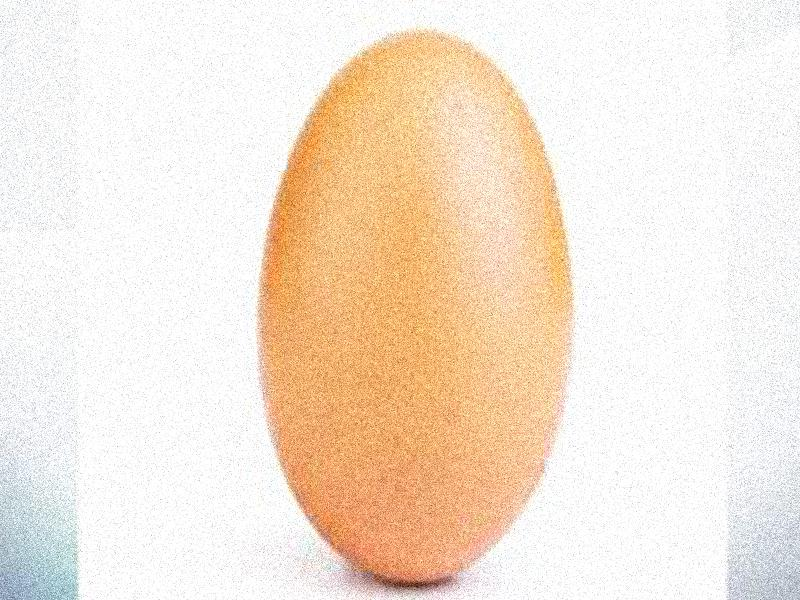Eggs: (258, 32, 572, 582)
